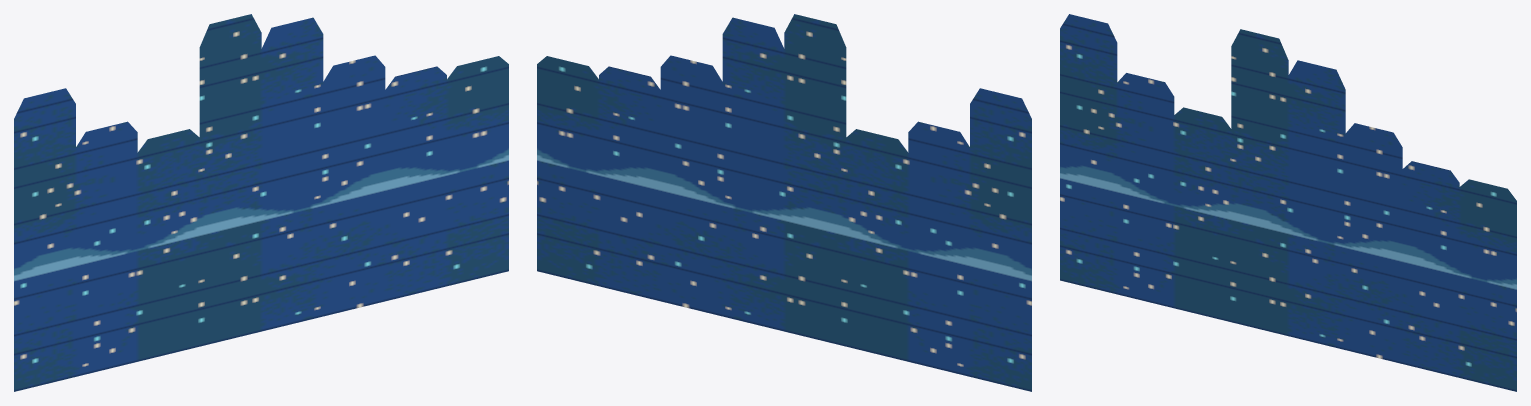
File: cysky.far.glb
3 renders of one model, left to right at view 1: azimuth 30°, elevation 25°; view 2: azimuth 150°, elevation 25°; view 3: azimuth 330°, elevation 25°, orthographic. The views are drawn at different scales.
Parts seen in each view (by area): view 1: kit_card_skyline; view 2: kit_card_skyline; view 3: kit_card_skyline.
Boxes of the visible parts, bbox=[...] form: kit_card_skyline: bbox=[14, 14, 508, 391]; kit_card_skyline: bbox=[537, 14, 1031, 391]; kit_card_skyline: bbox=[1060, 14, 1516, 391].
Bounding box in the file's own units: 56 × 34.6 × 0.
1 material, 1 textured.
